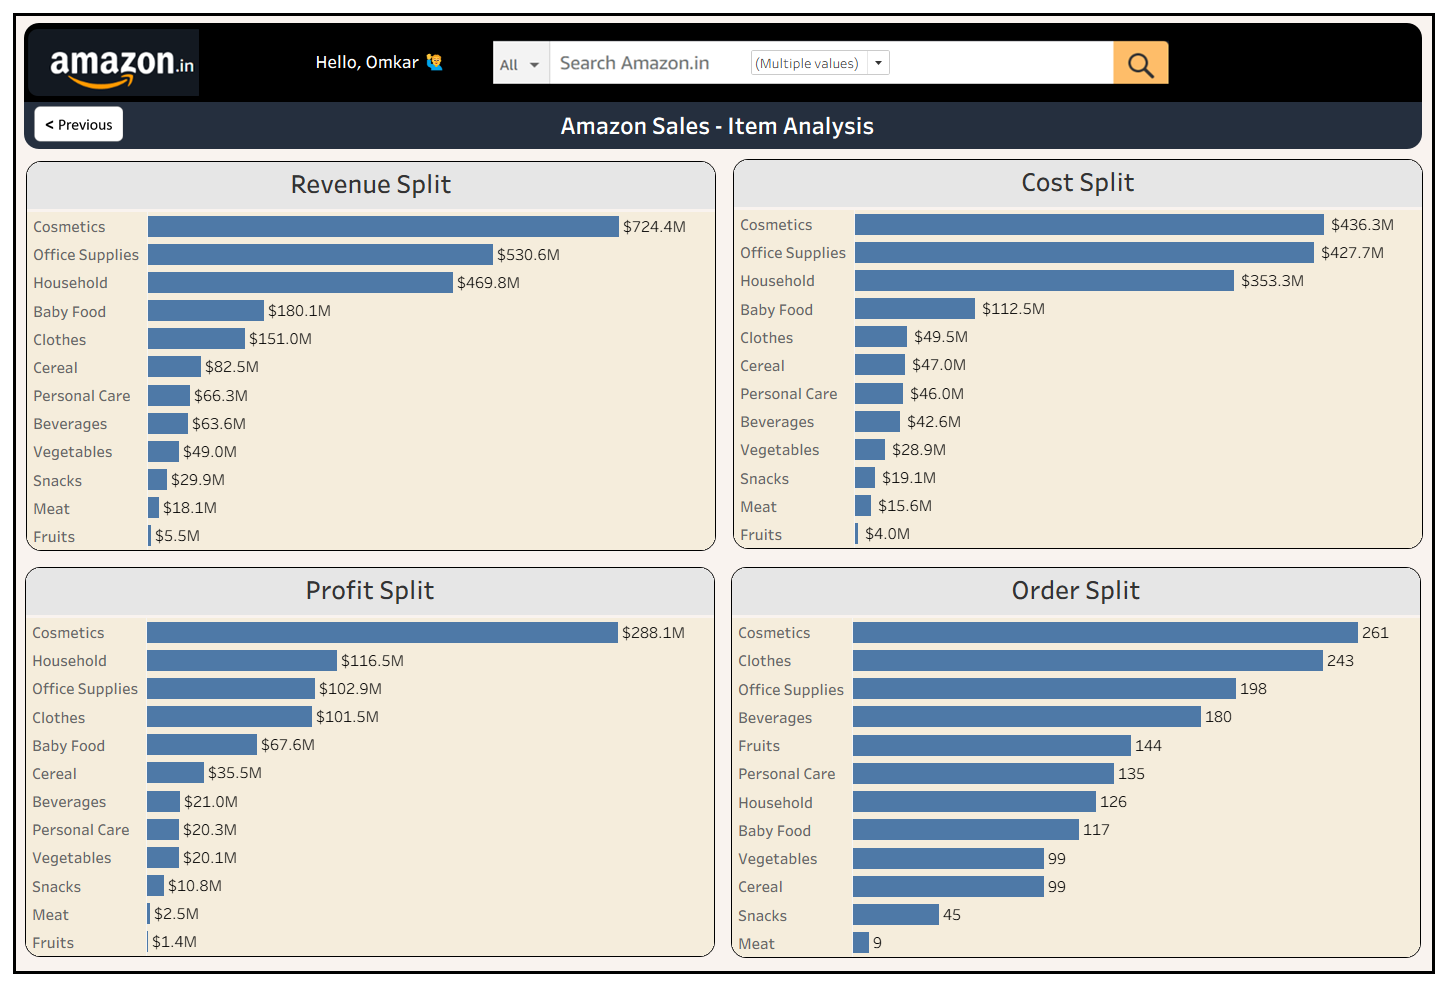

The page's visual inventory and layout, read from the dashboard file:
{"tool":"tableau","page":{"name":"Item Analysis","canvas":[1000,1000],"units":"permille","ordinal":1},"visuals":[{"type":"blank","box":[0,0,1001.4,1001]},{"type":"blank","box":[7.8,10.4,984.5,105.2]},{"type":"filter","title":"Revenue Split","param":"[federated.17vmmfo1akv8vy1bi0ddc08ok5zb].[none:Item Type:nk]","box":[517.6,13.5,102.1,54.2]},{"type":"image","param":"Image/Picture3.png","box":[10.6,16.3,126.5,69.8]},{"type":"image","param":"Image/Picture5.png","box":[338,28.1,476.1,49]},{"type":"text","box":[210.6,32.3,112.7,35.4]},{"type":"blank","box":[7.8,92.7,984.5,49]},{"type":"dashboard-object","box":[14.8,95.8,62.7,42.7]},{"type":"text","box":[383.1,95.8,277.5,40.6]},{"type":"worksheet","title":"Cost Split","mark":"Automatic","rows":["Item Type"],"cols":["Total Cost"],"box":[507,152.1,485.9,406.2]},{"type":"worksheet","title":"Revenue Split","mark":"Automatic","rows":["Item Type"],"cols":["Total Revenue"],"box":[9.2,154.2,485.9,406.2]},{"type":"worksheet","title":"Profit Split","mark":"Automatic","rows":["Item Type"],"cols":["Calculation_0173743131983872"],"box":[8.4,577.1,485.9,406.2]},{"type":"worksheet","title":"Order Split","mark":"Automatic","rows":["Item Type"],"cols":["Calculation_0892825058463744"],"box":[505.6,577.1,485.9,407.3]}]}

Visuals, with their boxes on the dashboard's canvas, which has no fixed pixel size, in thousandths of its width and height (x1, y1, x2, y2). These are canvas units, not pixel positions in the 1450x992 screenshot, which may show the page scaled, cropped or inside an application window:
blank: {"left": 0, "top": 0, "right": 1001, "bottom": 1001}
blank: {"left": 8, "top": 10, "right": 992, "bottom": 116}
"Revenue Split" filter: {"left": 518, "top": 14, "right": 620, "bottom": 68}
image: {"left": 11, "top": 16, "right": 137, "bottom": 86}
image: {"left": 338, "top": 28, "right": 814, "bottom": 77}
text: {"left": 211, "top": 32, "right": 323, "bottom": 68}
blank: {"left": 8, "top": 93, "right": 992, "bottom": 142}
dashboard-object: {"left": 15, "top": 96, "right": 78, "bottom": 138}
text: {"left": 383, "top": 96, "right": 661, "bottom": 136}
"Cost Split" worksheet: {"left": 507, "top": 152, "right": 993, "bottom": 558}
"Revenue Split" worksheet: {"left": 9, "top": 154, "right": 495, "bottom": 560}
"Profit Split" worksheet: {"left": 8, "top": 577, "right": 494, "bottom": 983}
"Order Split" worksheet: {"left": 506, "top": 577, "right": 992, "bottom": 984}
